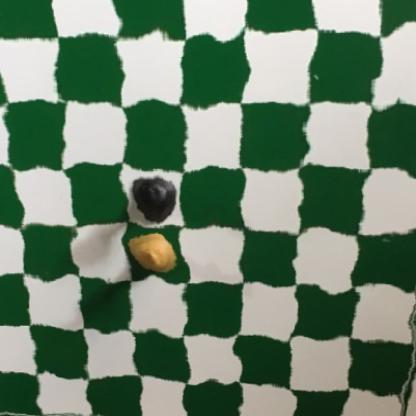black-king: (129, 171, 178, 221)
white-king: (128, 228, 183, 280)
